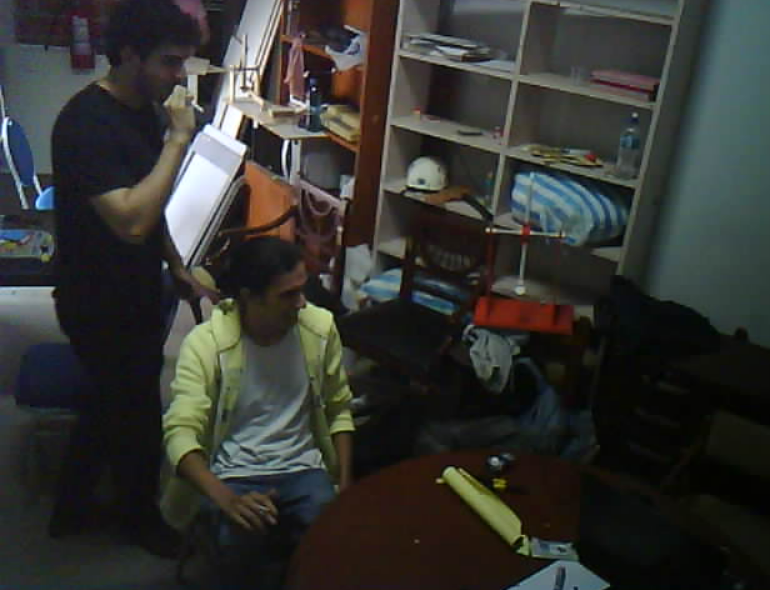person: (43, 4, 226, 566), (156, 248, 377, 590)
